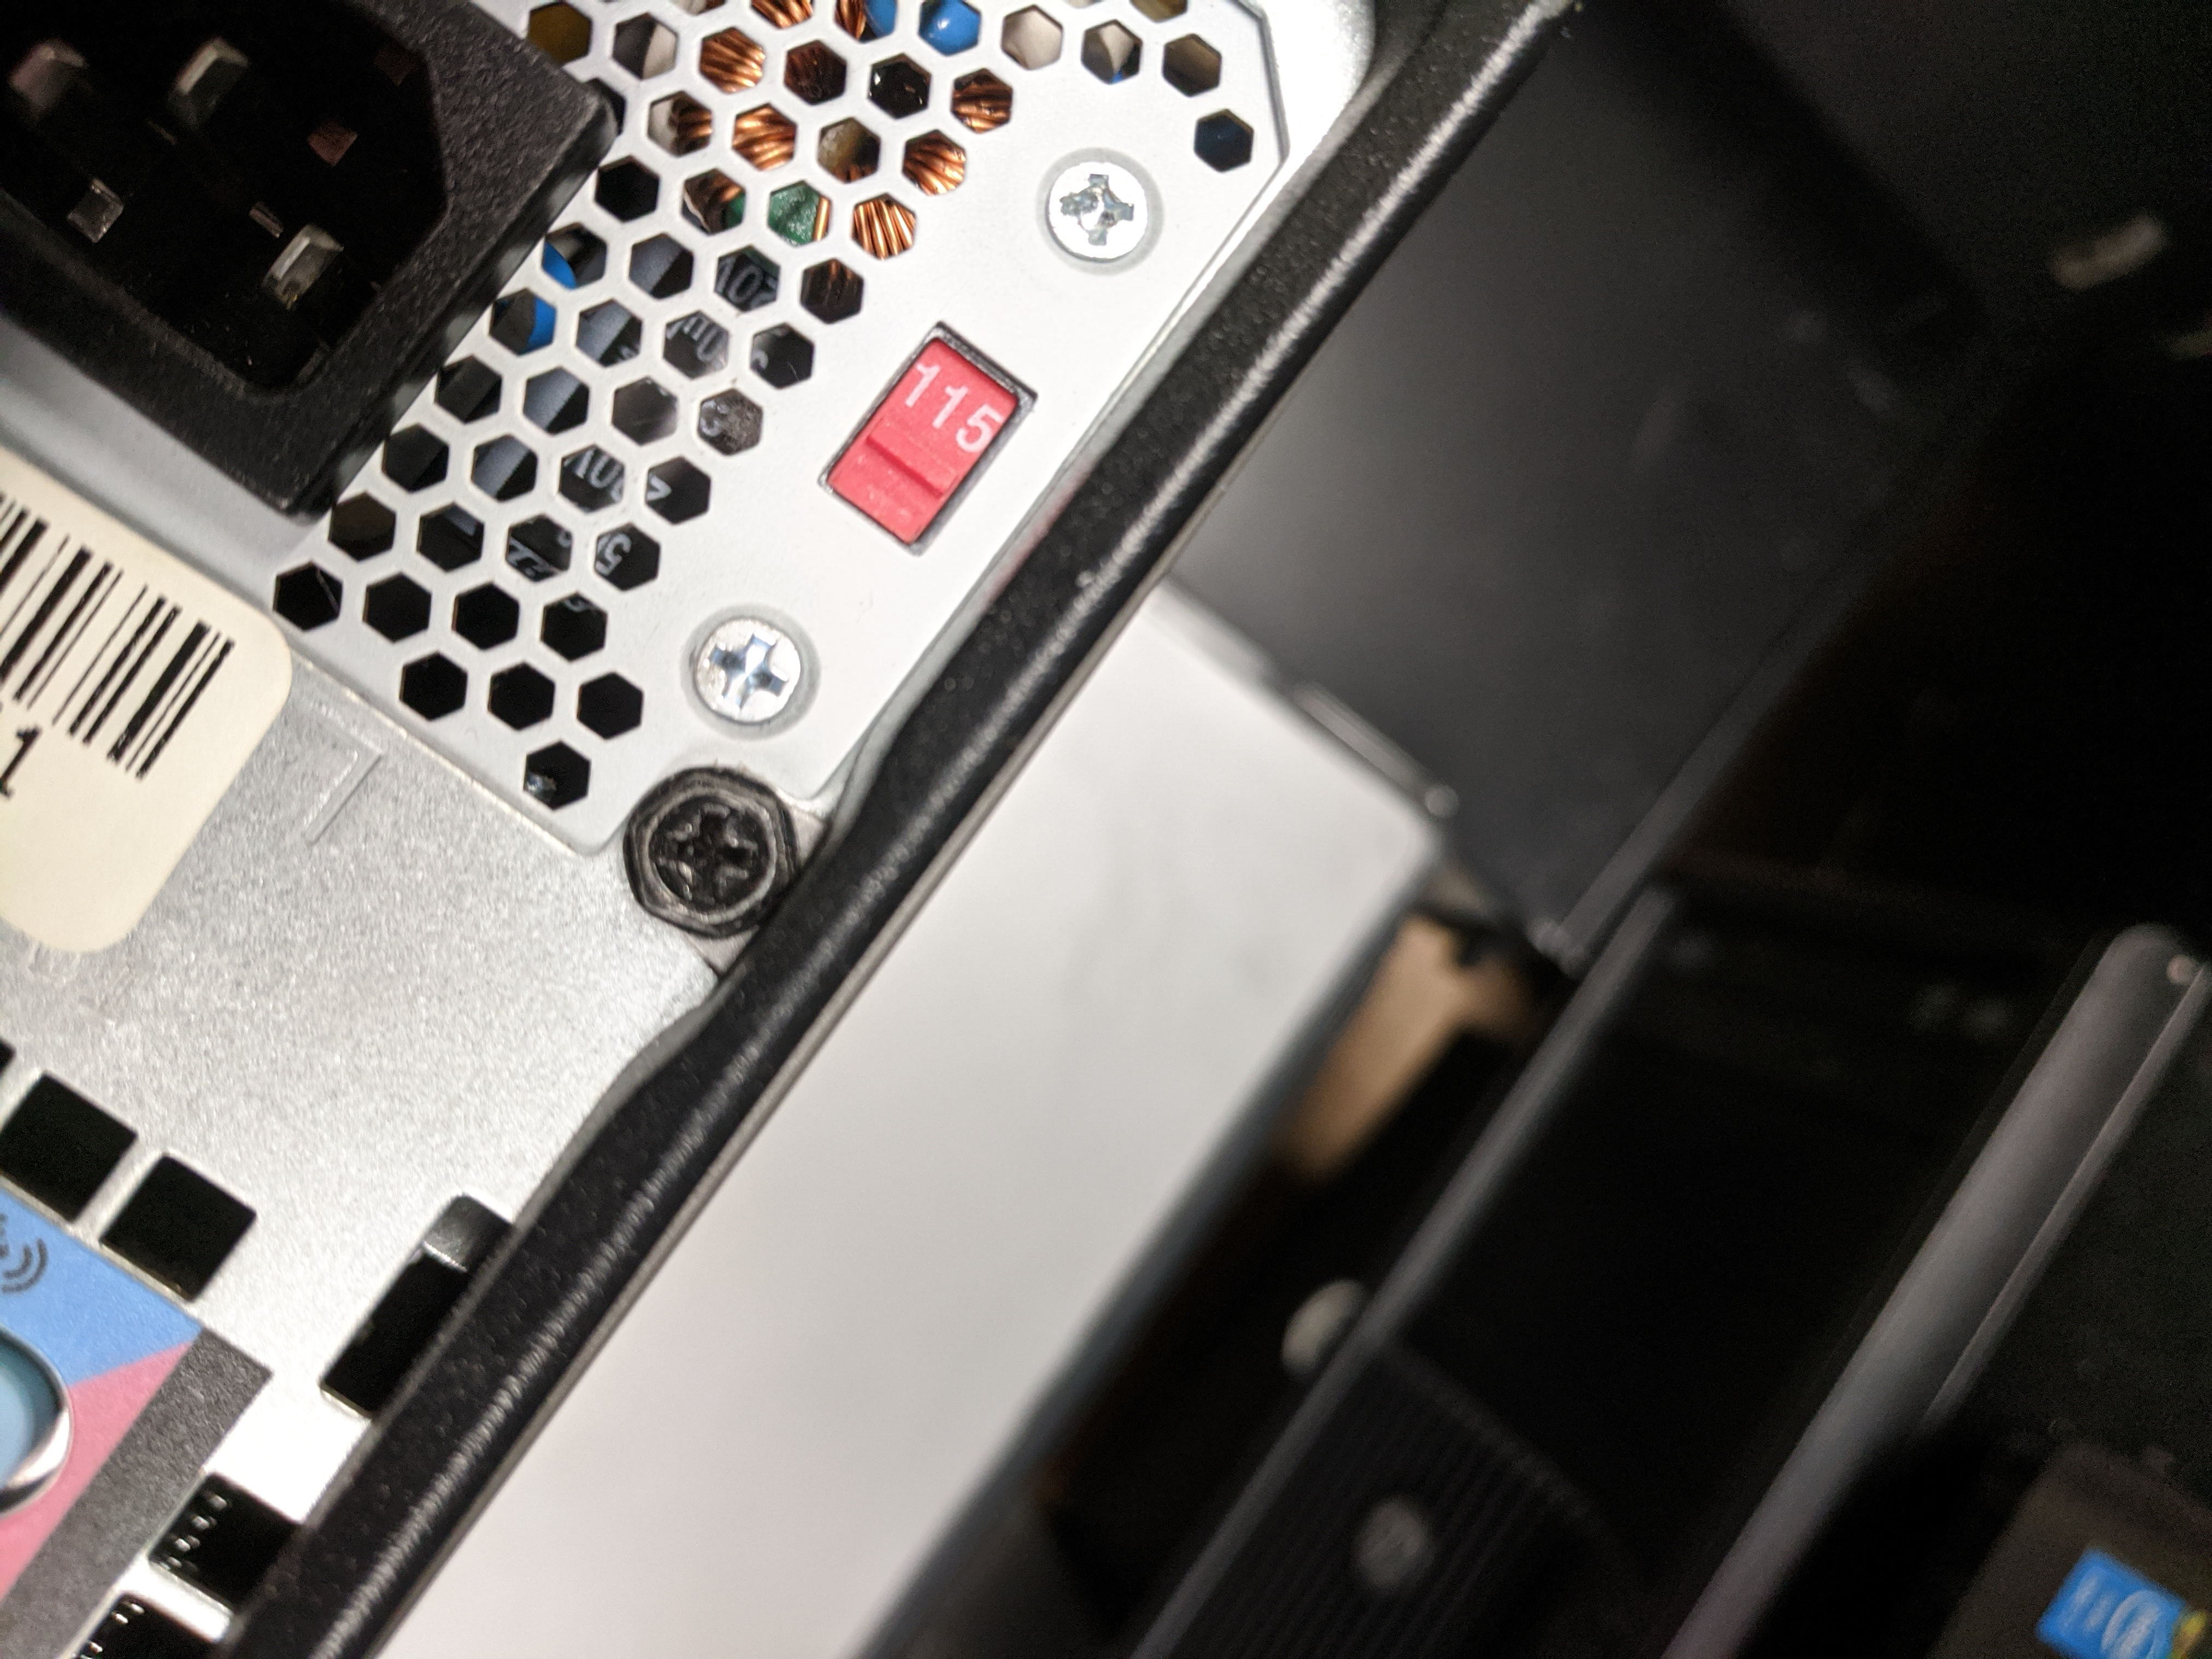cross_recessed_screw: (627, 782, 786, 922), (1033, 148, 1165, 261), (691, 606, 801, 723)
